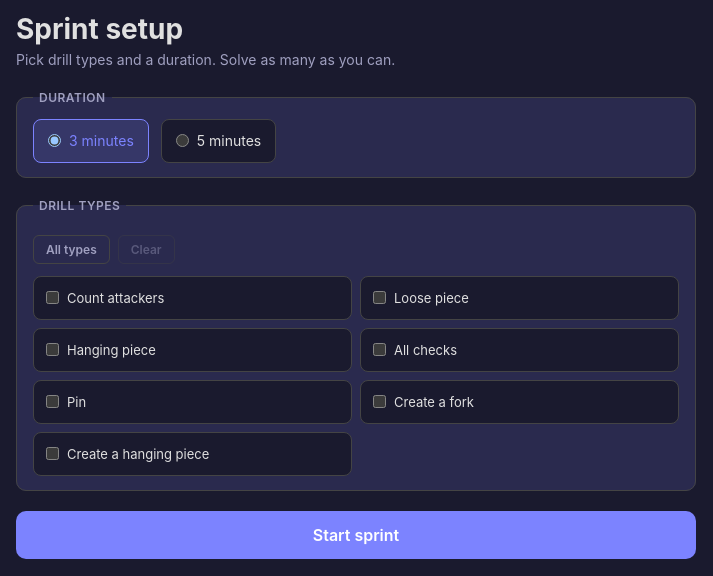
<DrillSprintSetupPage> KS-2241 › кнопка «Все типы» отмечает все 7 чекбоксов
The width and height of the screenshot is (713, 576).
Click the button with test id "drill-sprint-setup-select-all": (71, 249) [33, 235, 110, 264]
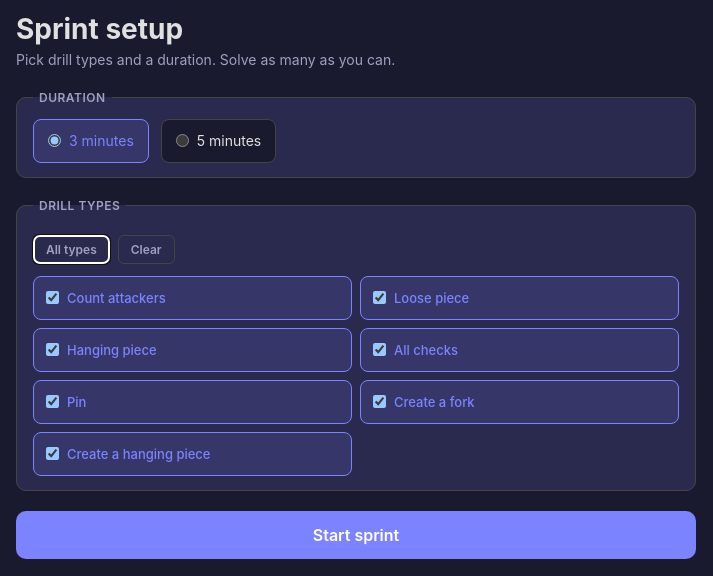
Expected: the checkbox with test id "drill-sprint-setup-type-count-attackers" is checked, [46, 291, 59, 304]
Expected: the checkbox with test id "drill-sprint-setup-type-find-pin" is checked, [46, 395, 59, 408]
